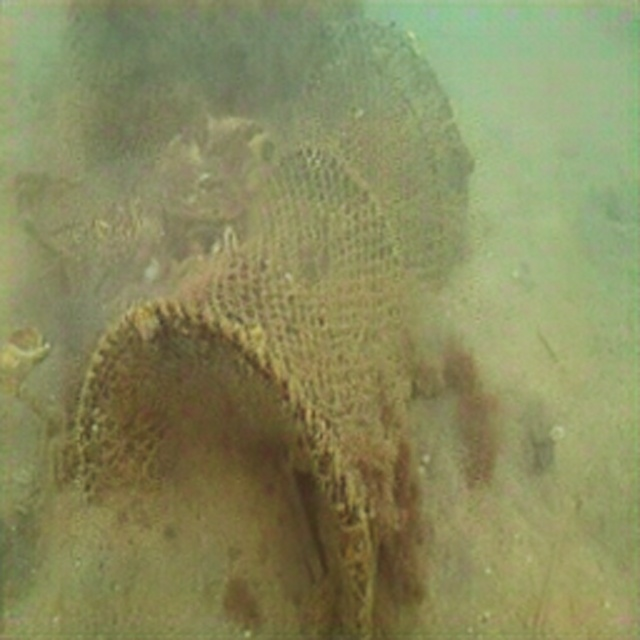mine: (76, 17, 476, 639)
